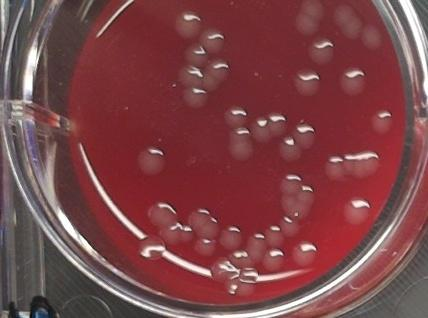vangil: (323, 149, 383, 182), (146, 200, 191, 243), (278, 172, 317, 220), (185, 203, 218, 254), (339, 194, 373, 227), (226, 126, 257, 162), (202, 55, 231, 91), (336, 65, 367, 98), (172, 7, 202, 41), (138, 144, 167, 178), (306, 36, 337, 67), (293, 68, 323, 99), (253, 111, 285, 140), (289, 240, 319, 270), (370, 106, 396, 137), (219, 222, 244, 253), (292, 120, 318, 148), (185, 41, 213, 67), (200, 25, 225, 54), (178, 61, 205, 87), (262, 246, 286, 274), (246, 230, 269, 259), (263, 221, 288, 247), (279, 136, 303, 162), (224, 104, 249, 128), (181, 85, 208, 107)
